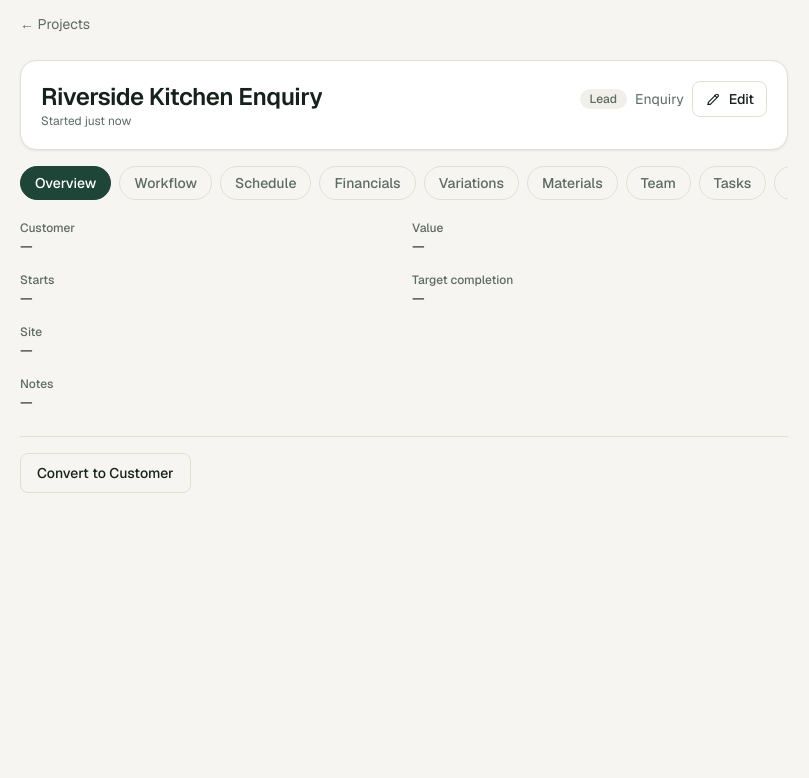
ProjectDetailPage — enquiry conversion (Sprint 021) › keeps_enquiry_unlinked_and_retryable_when_customer_conversion_fails
The image size is (809, 778).
Click the button "Convert to Customer" at (105, 473), box x1=20 y1=453 x2=191 y2=493
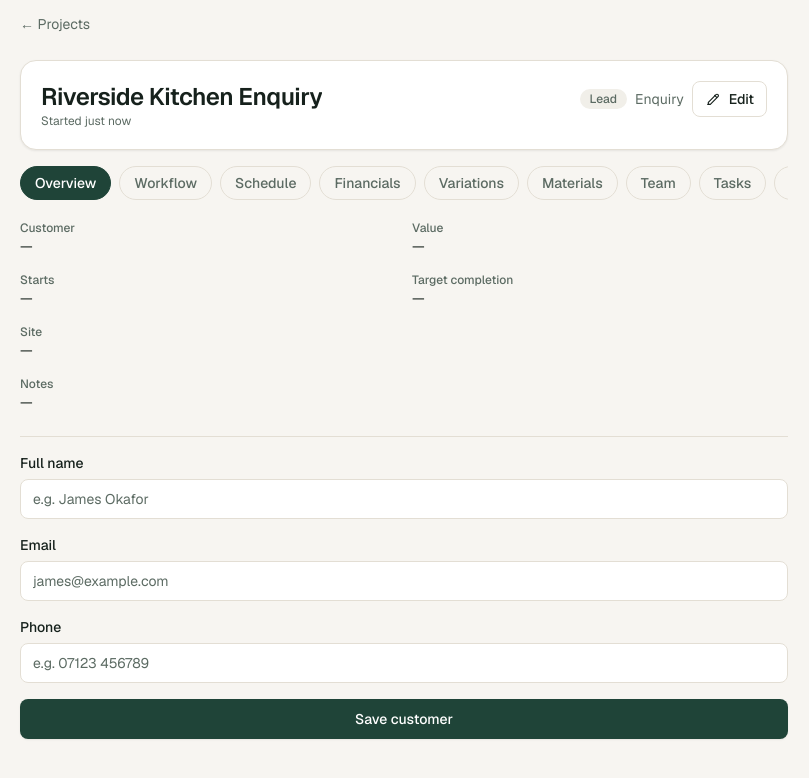
Type "Jane Okafor" into the field labelled "Full name" at (404, 499), box x1=20 y1=479 x2=788 y2=519
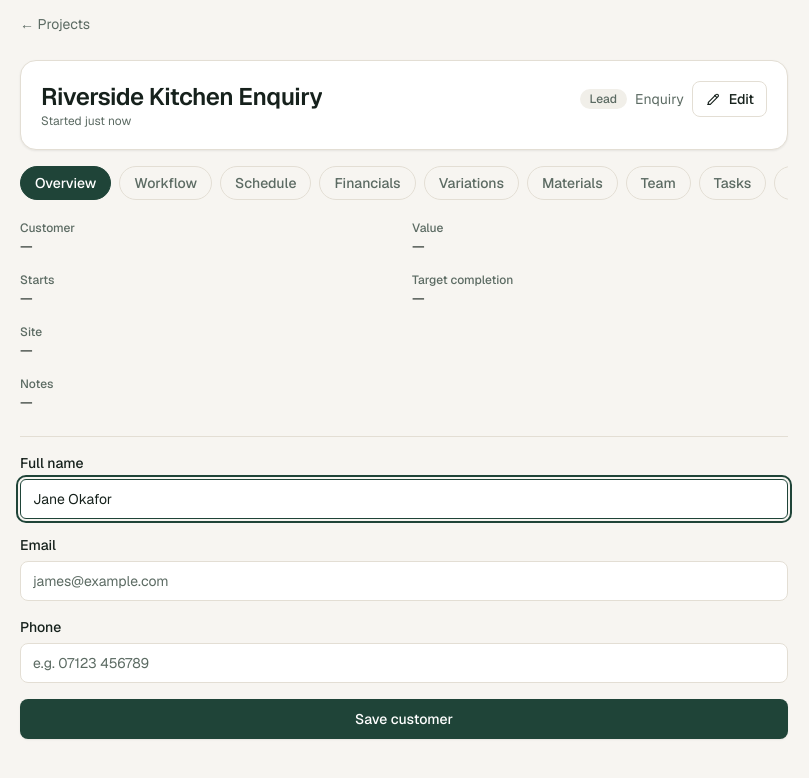
Type "jane@example.com" into the field labelled "Email" at (404, 581), box x1=20 y1=561 x2=788 y2=601
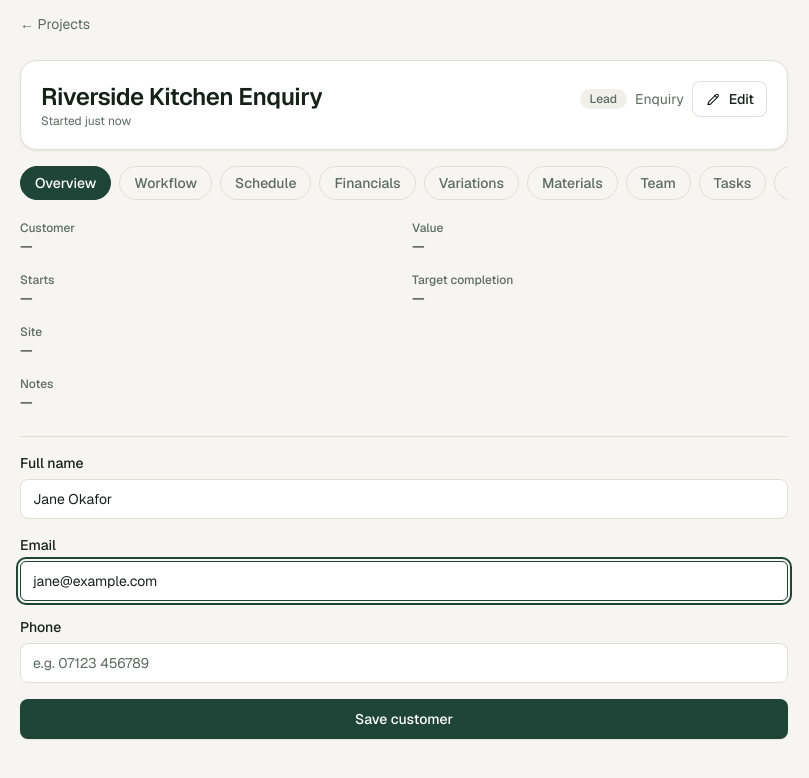
Type "07123 456789" into the field labelled "Phone" at (404, 663), box x1=20 y1=643 x2=788 y2=683
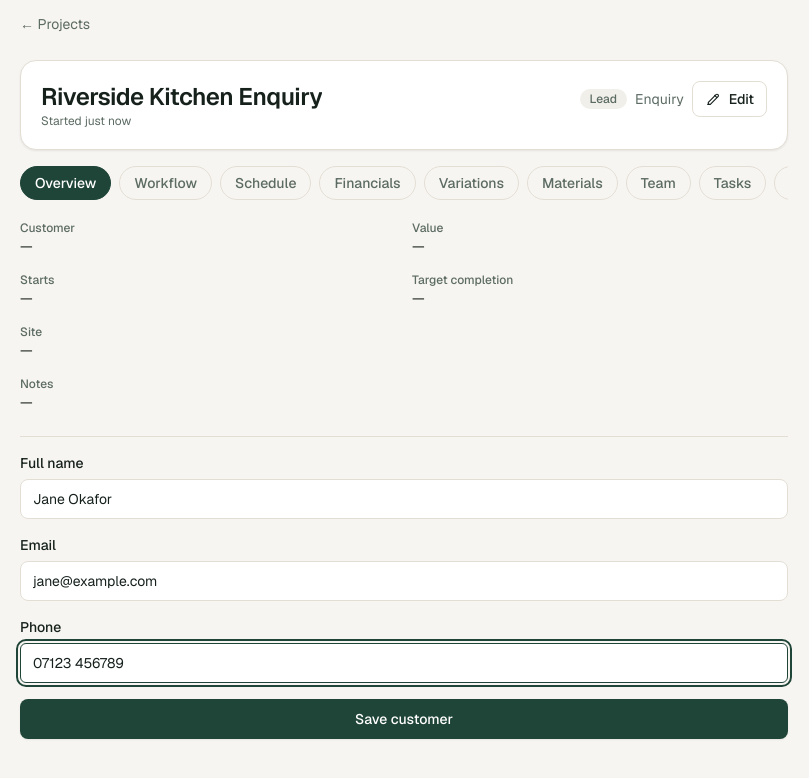
Click the button "Save customer" at (404, 719), box x1=20 y1=699 x2=788 y2=739
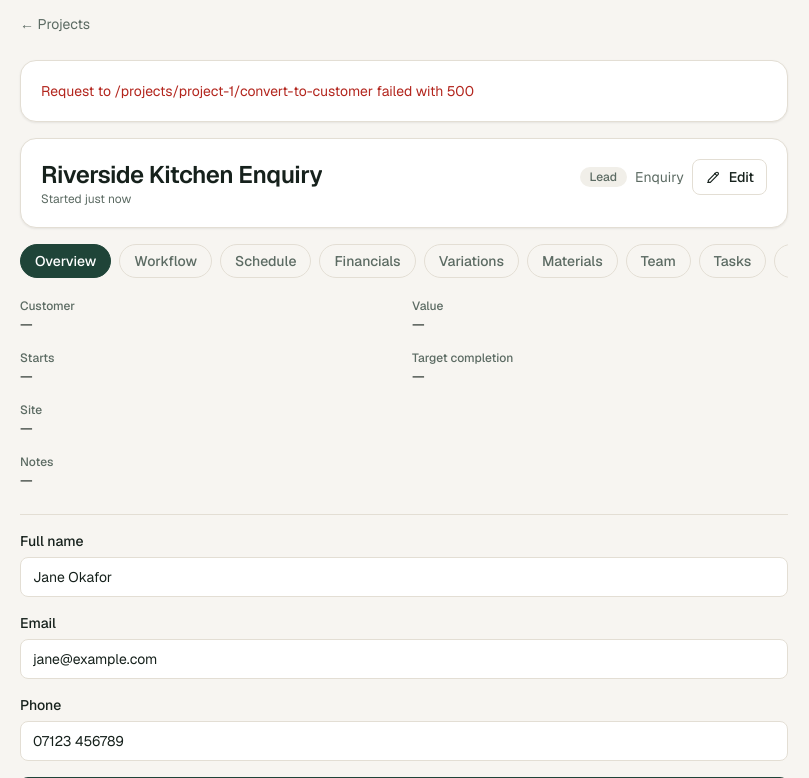
Now the text "failed with 500" is shown, box x1=41 y1=82 x2=474 y2=100
